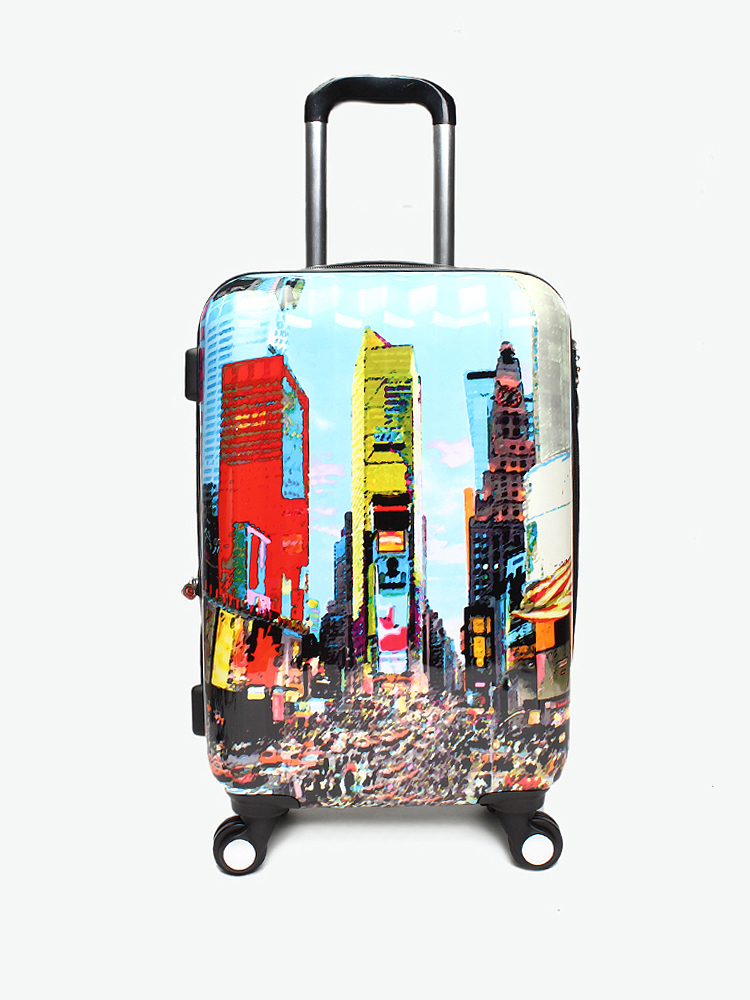suitcase: (181, 75, 582, 875)
